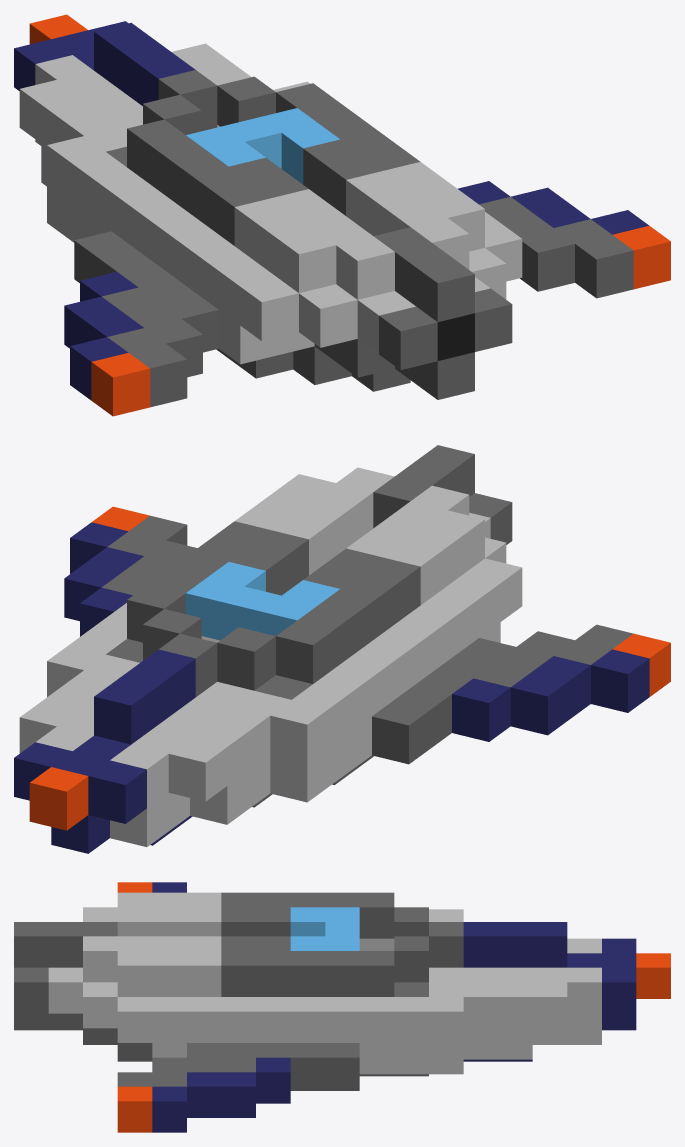
File: speeder_3.glb
3 views of the same model, one above another, from view 1: azimuth 30°, elevation 25°; view 2: azimuth 150°, elevation 25°; view 3: azimuth 270°, elevation 25° (orthographic). The views are drawn at different scales.
Size of the model in its own units: 15 by 4 by 19.
